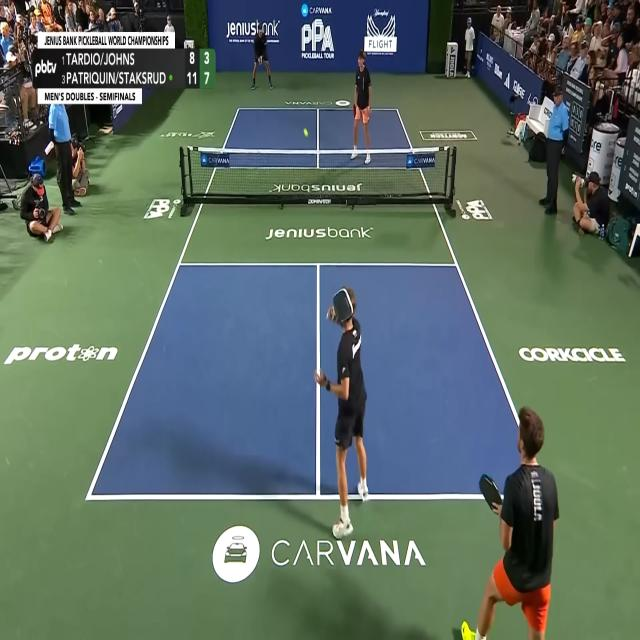ball: (303, 127, 309, 138)
